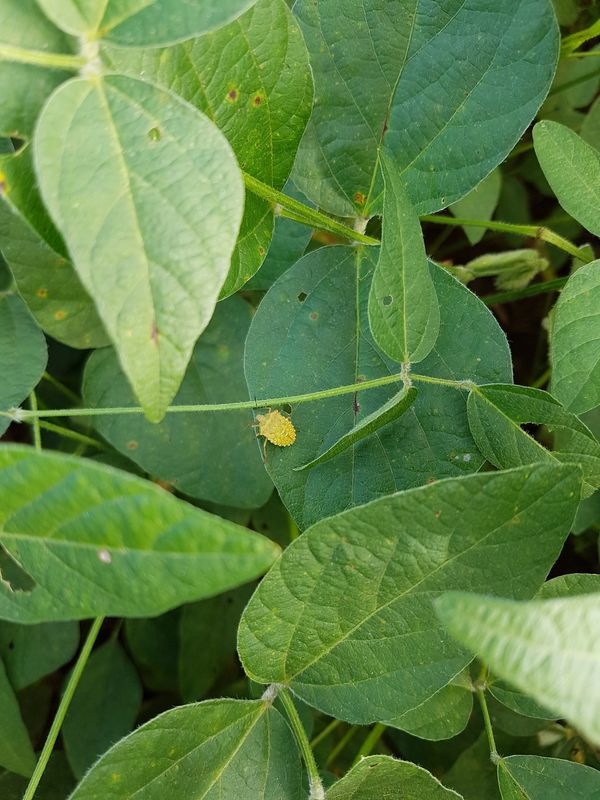Euschistus_heros_ninfa: (240, 398, 307, 465)
